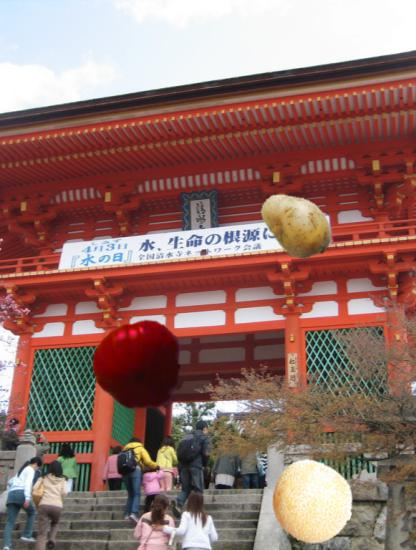Cantaloupe: (271, 461, 354, 544)
Potato: (257, 184, 337, 264)
Tomato: (90, 318, 183, 411)
